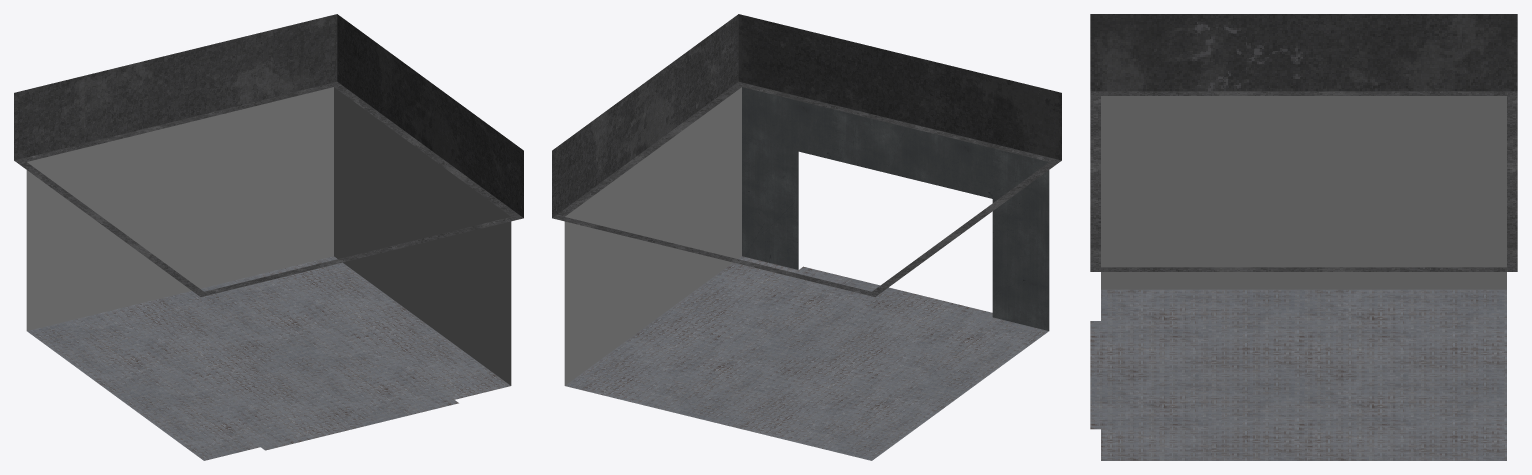
File: storage_room.glb
3 renders of one model, left to right at view 1: azimuth 30°, elevation 25°; view 2: azimuth 150°, elevation 25°; view 3: azimuth 270°, elevation 25°, orthographic. The views are drawn at different scales.
Visible parts, largest first — view 1: StorageRoom -col; view 2: StorageRoom -col; view 3: StorageRoom -col.
Boxes of the visible parts, x1=… form: StorageRoom -col: x1=14, y1=14, x2=523, y2=460; StorageRoom -col: x1=552, y1=14, x2=1061, y2=460; StorageRoom -col: x1=1090, y1=14, x2=1517, y2=460.
Bounding box in the file's own units: 10 × 7 × 10.
4 materials, 3 textured.
